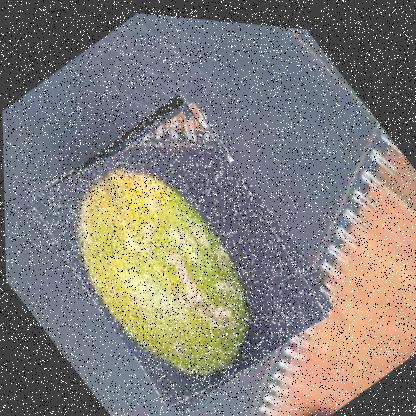orange_rotten: (15, 74, 343, 415)
